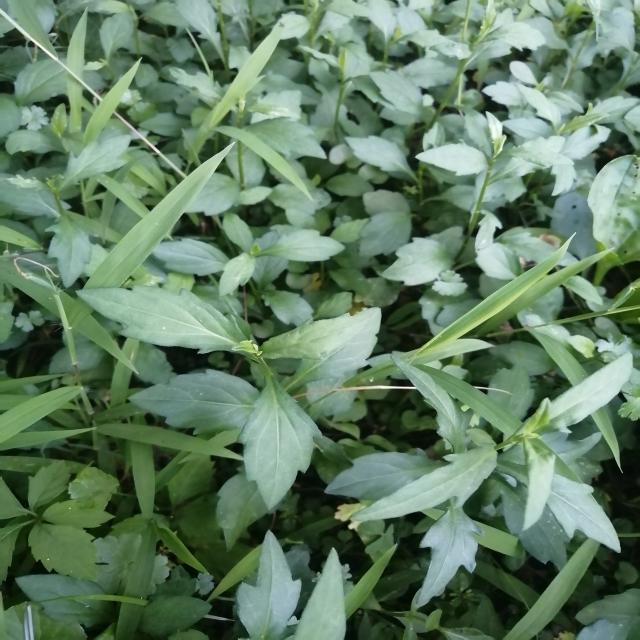Indian aster: (107, 272, 370, 485)
